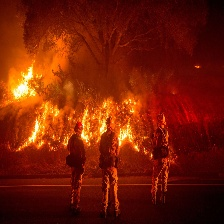fire: (77, 97, 149, 153), (12, 104, 68, 149), (7, 63, 43, 100), (193, 59, 204, 72)
